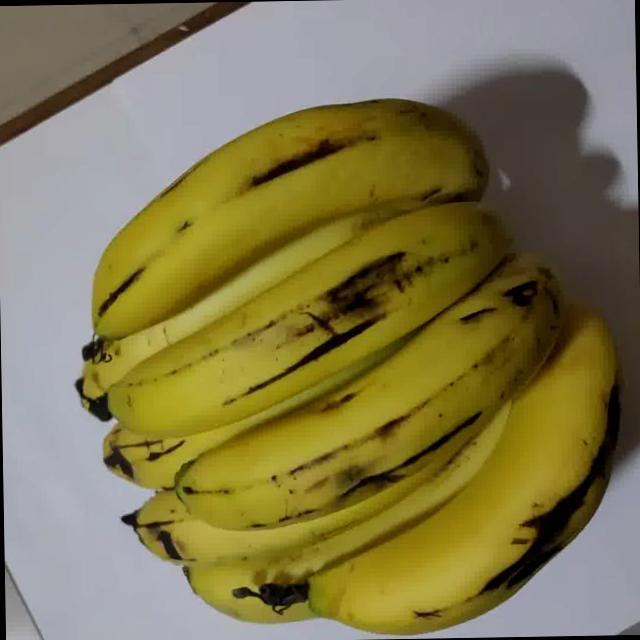banana_pacche: (26, 30, 636, 640)
